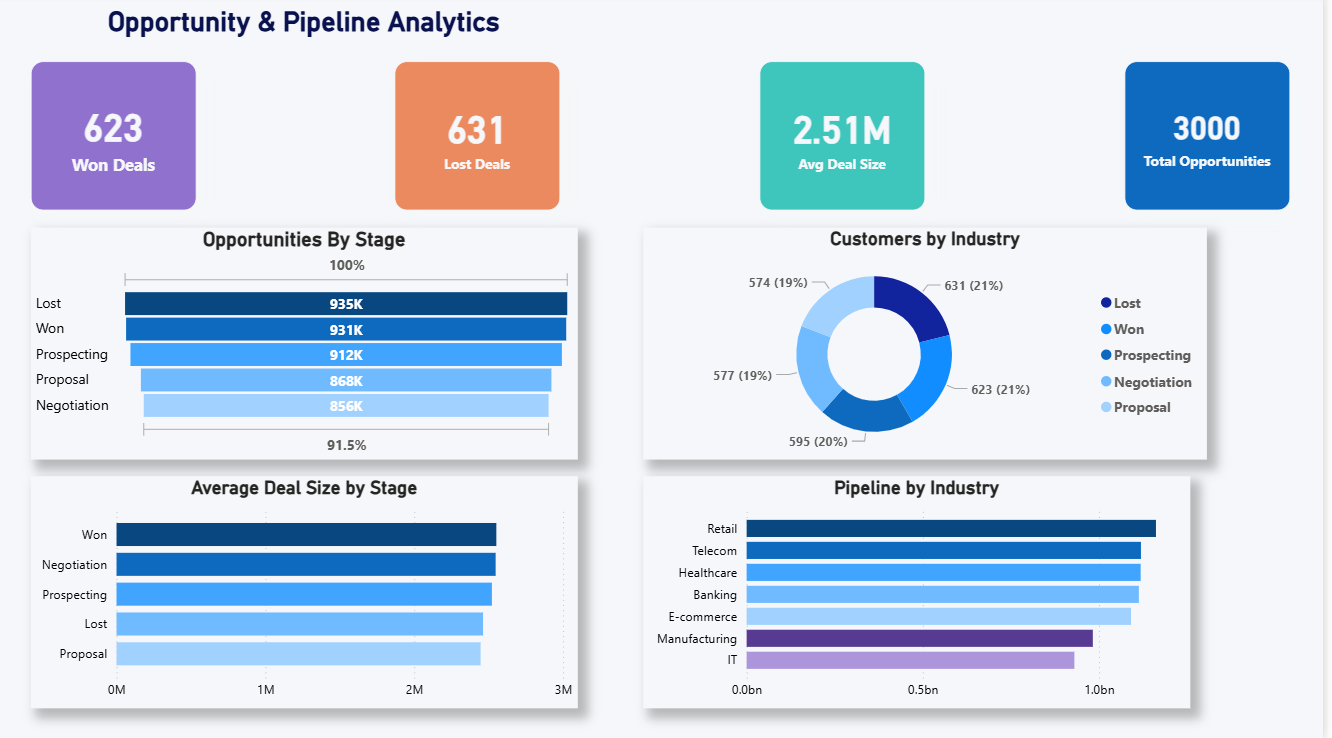

The dashboard page shown, as its layout file describes it:
{"tool":"powerbi","page":{"name":"Opportunity & Pipeline Analytics","canvas":[1280,720],"ordinal":3},"visuals":[{"type":"card","fields":{"Values":["KPI_Table.Won Deals"]},"box":[32,64,160,144],"z":0},{"type":"card","fields":{"Values":["KPI_Table.Lost Deals"]},"box":[384,64,160,144],"z":1},{"type":"card","fields":{"Values":["KPI_Table.Avg Deal Size"]},"box":[736,64,160,144],"z":2},{"type":"card","fields":{"Values":["KPI_Table.Total Opportunities"]},"box":[1088,64,160,144],"z":3},{"type":"funnel","title":"Opportunities By Stage","fields":{"Category":["opportunities.stage"],"Y":["Sum(opportunities.opportunity_id)"]},"box":[32,224,528,224],"z":4},{"type":"donutChart","title":"Customers by Industry","fields":{"Category":["opportunities.stage"],"Y":["CountNonNull(opportunities.opportunity_id)"]},"box":[624,224,544,224],"z":6},{"type":"clusteredBarChart","title":"Average Deal Size by Stage","fields":{"Category":["opportunities.stage"],"Y":["Avg(opportunities.deal_value)"]},"box":[32,464,528,224],"z":7},{"type":"clusteredBarChart","title":"Pipeline by Industry","fields":{"Category":["customers.industry"],"Y":["Sum(opportunities.deal_value)"]},"box":[624,464,528,224],"z":8},{"type":"card","fields":{"Values":["KPI_Table.IV"]},"box":[48,0,496,48],"z":9}]}

Visuals, with their boxes in screenshot pixels (x1, y1, x2, y2), scaled from the page's 1280x720 canvas onto the 1332x738 screenshot:
card - KPI_Table.Won Deals: (33, 66, 200, 213)
card - KPI_Table.Lost Deals: (400, 66, 566, 213)
card - KPI_Table.Avg Deal Size: (766, 66, 932, 213)
card - KPI_Table.Total Opportunities: (1132, 66, 1299, 213)
"Opportunities By Stage" funnel: (33, 230, 583, 459)
"Customers by Industry" donutChart: (649, 230, 1215, 459)
"Average Deal Size by Stage" clusteredBarChart: (33, 476, 583, 705)
"Pipeline by Industry" clusteredBarChart: (649, 476, 1199, 705)
card - KPI_Table.IV: (50, 0, 566, 49)
